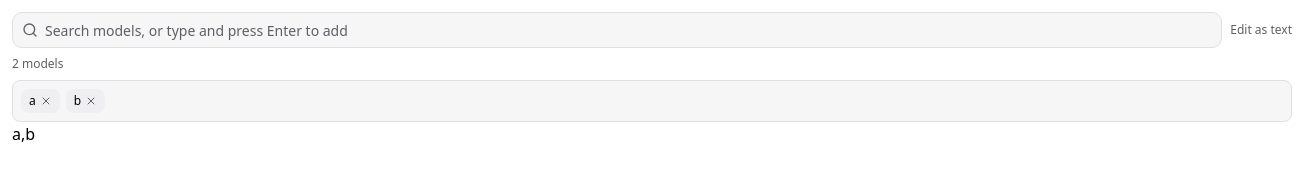
Test: ModelListInput suggestions › keeps the text editing mode
The image size is (1304, 172).
Click the button "Edit as text".
click(1261, 30)  # box [1230, 22, 1292, 38]
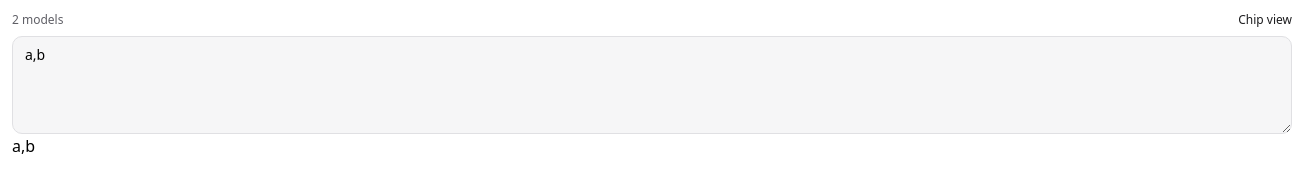
Expected: the text box holds "a,b", [12, 36, 1292, 134]
